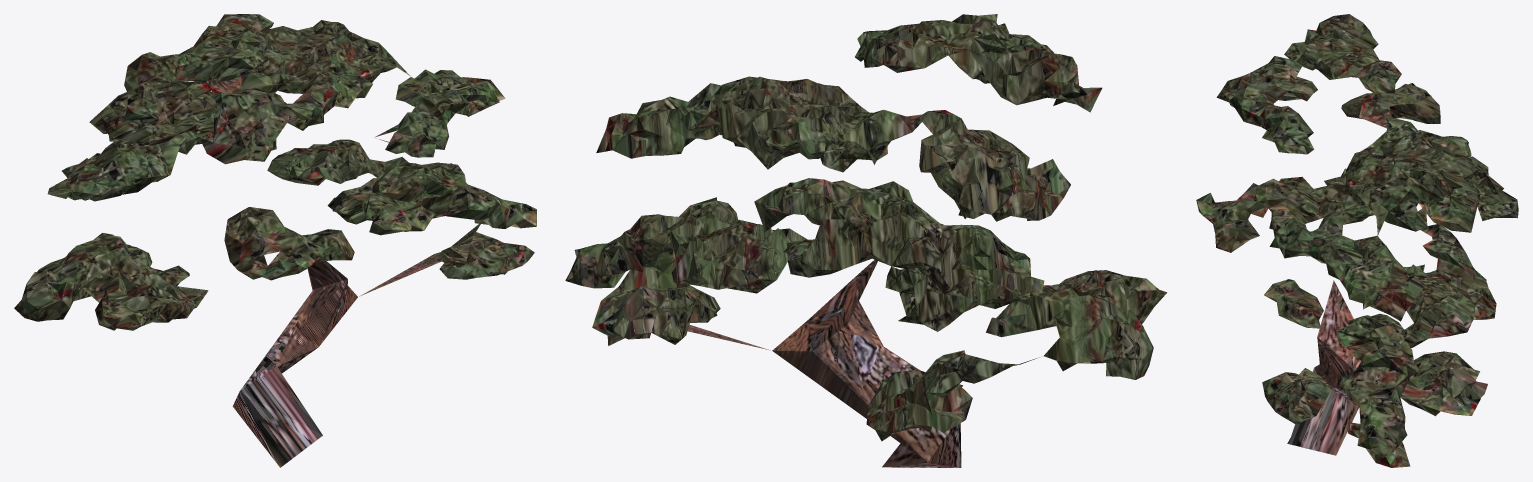
The model's file is pine.glb.
3 renders of one model, left to right at view 1: azimuth 30°, elevation 25°; view 2: azimuth 150°, elevation 25°; view 3: azimuth 270°, elevation 25°, orthographic. The views are drawn at different scales.
Visible parts, largest first — view 1: geometry_0; view 2: geometry_0; view 3: geometry_0.
Part boxes in pixels (bbox=[...]): geometry_0: bbox=[14, 14, 536, 467]; geometry_0: bbox=[565, 14, 1166, 467]; geometry_0: bbox=[1196, 14, 1518, 467].
Size of the model in its own units: 0.9718 by 0.7599 by 0.572.
Materials: 1 (1 with a texture image).
